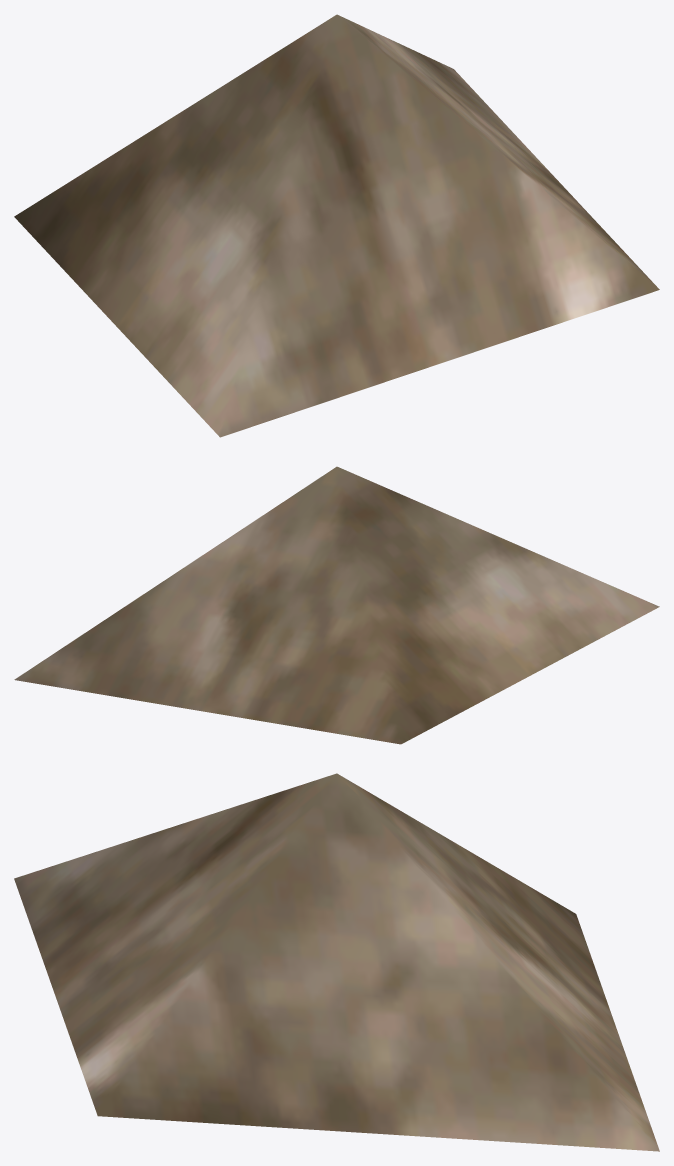
Rendered from OVERHILL_A_01_PLANE04.fbx.
The picture shows the model from 3 angles, top to bottom: view 1: azimuth 30°, elevation 25°; view 2: azimuth 150°, elevation 25°; view 3: azimuth 270°, elevation 25°; orthographic projection. The views are drawn at different scales.
Parts seen in each view (by area): view 1: OVERHILL_A_01_PLANE04; view 2: OVERHILL_A_01_PLANE04; view 3: OVERHILL_A_01_PLANE04.
Boxes of the visible parts, <box> form: OVERHILL_A_01_PLANE04: <box>14,14,659,437</box>; OVERHILL_A_01_PLANE04: <box>14,466,659,744</box>; OVERHILL_A_01_PLANE04: <box>14,773,659,1151</box>.
Size of the model in its own units: 1126 by 465 by 1126.
1 material, 1 textured.
